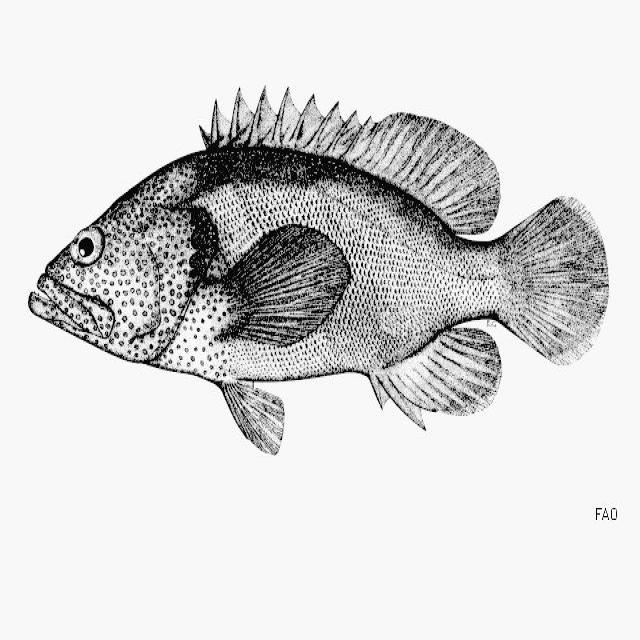ikan: (26, 65, 617, 479)
